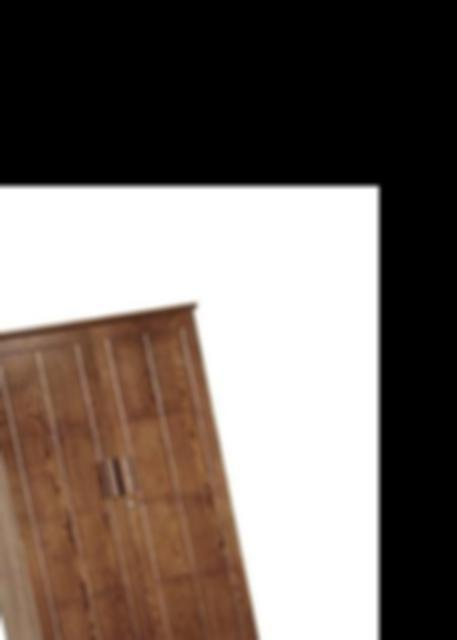Armario: (0, 298, 272, 640)
